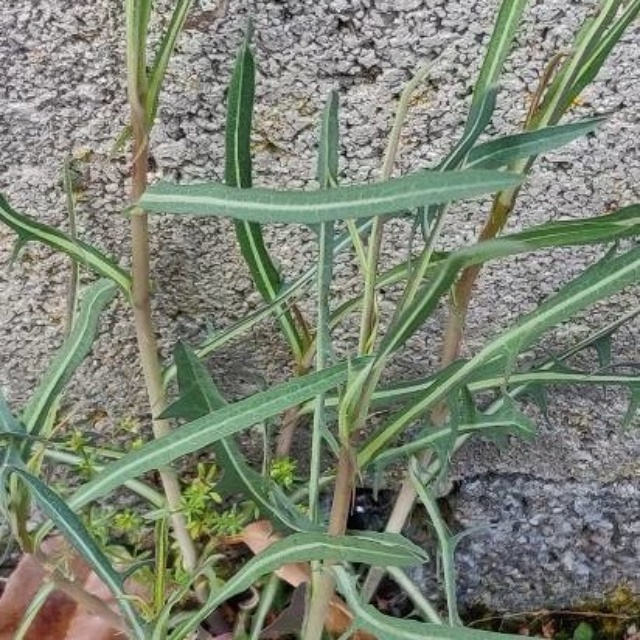obstacle: (30, 107, 525, 628)
